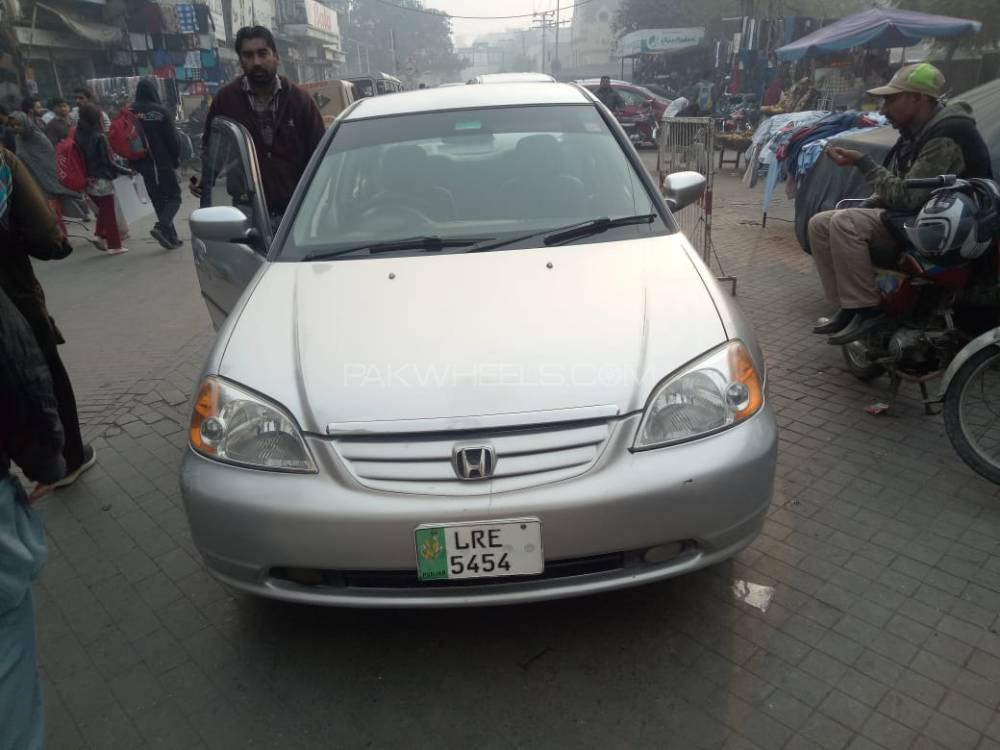plate: (410, 511, 548, 584)
